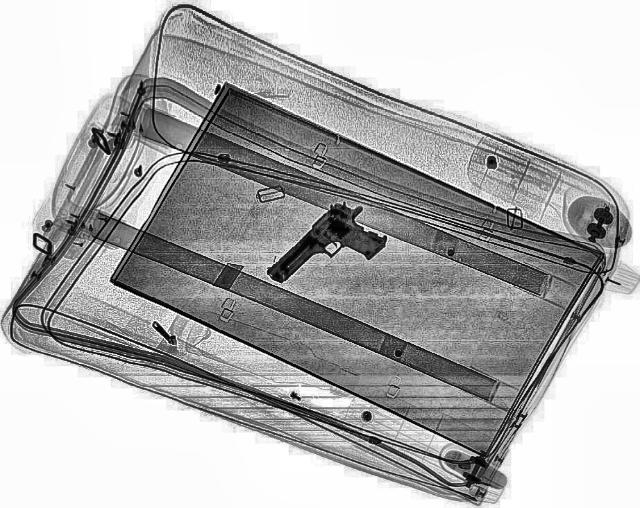Gun: (257, 194, 401, 306)
